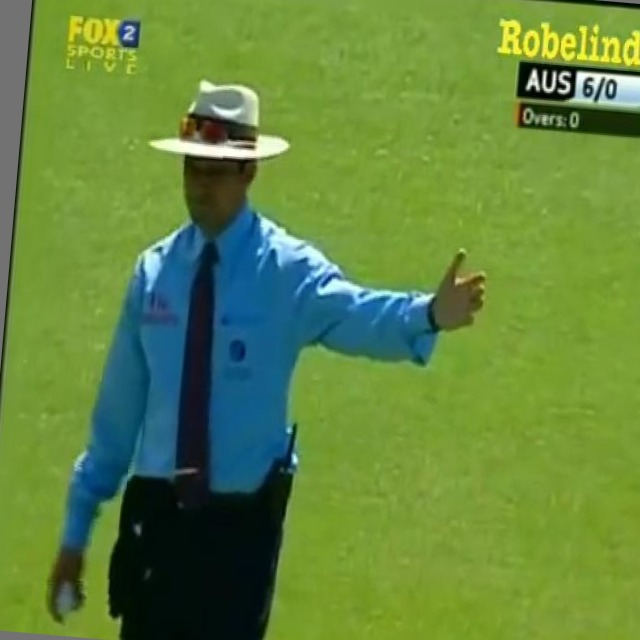No_Ball: (38, 63, 503, 640)
